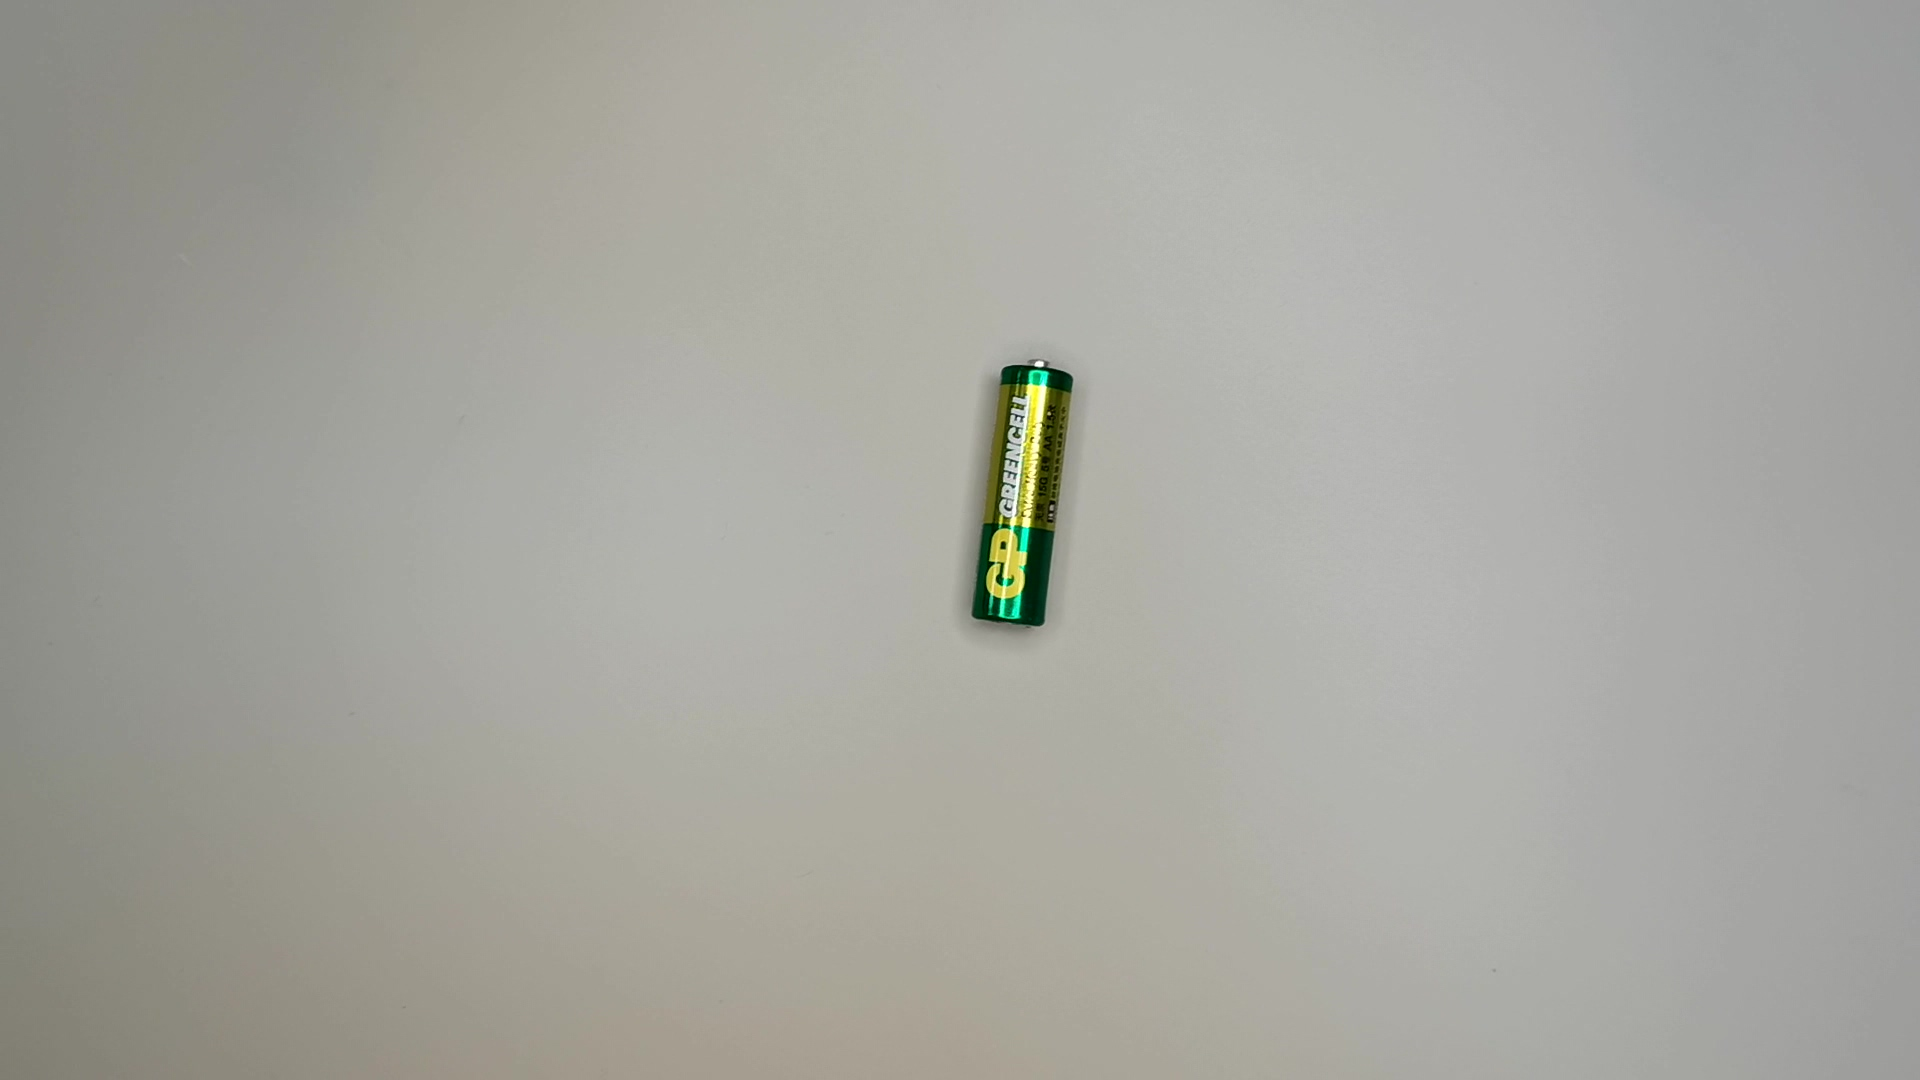battery: (971, 353, 1080, 637)
